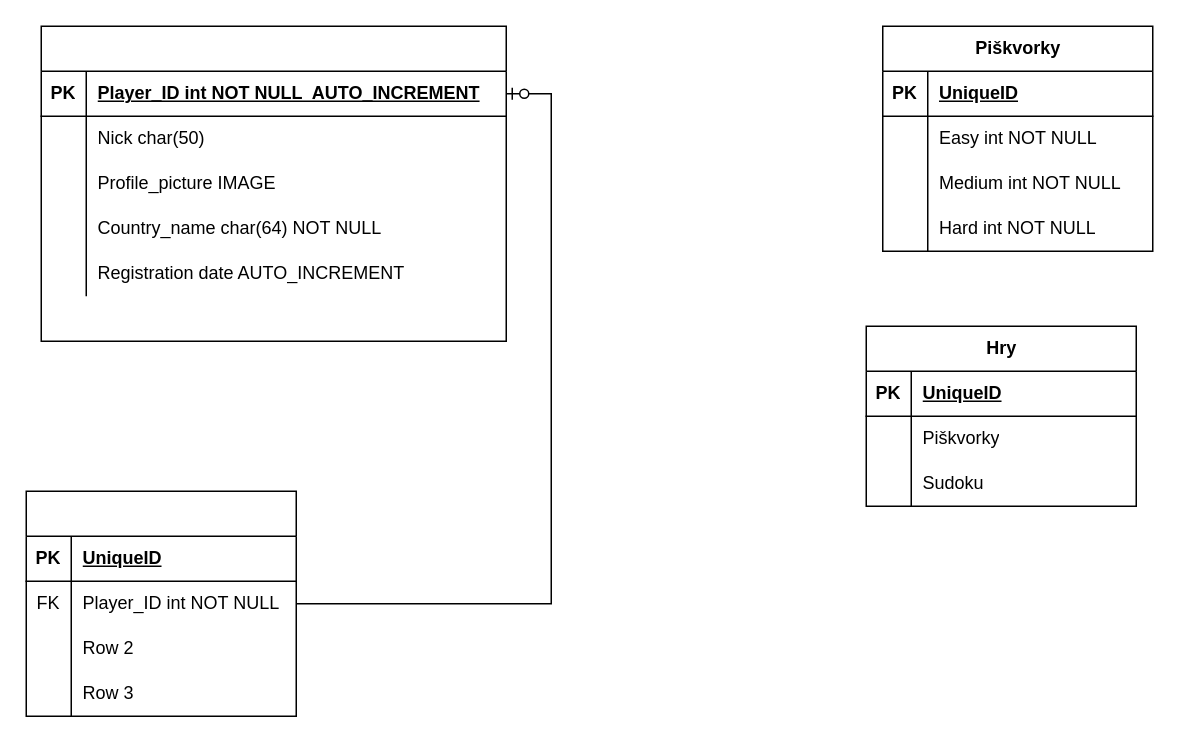
Some shapes in this 1179 by 743 pixel diagram are drawn without their labels. The box of each missing label's shape, as (x1, y1, x2, y2) in pixels:
Hráč: (40, 25, 506, 341)
Skore: (25, 490, 296, 716)
